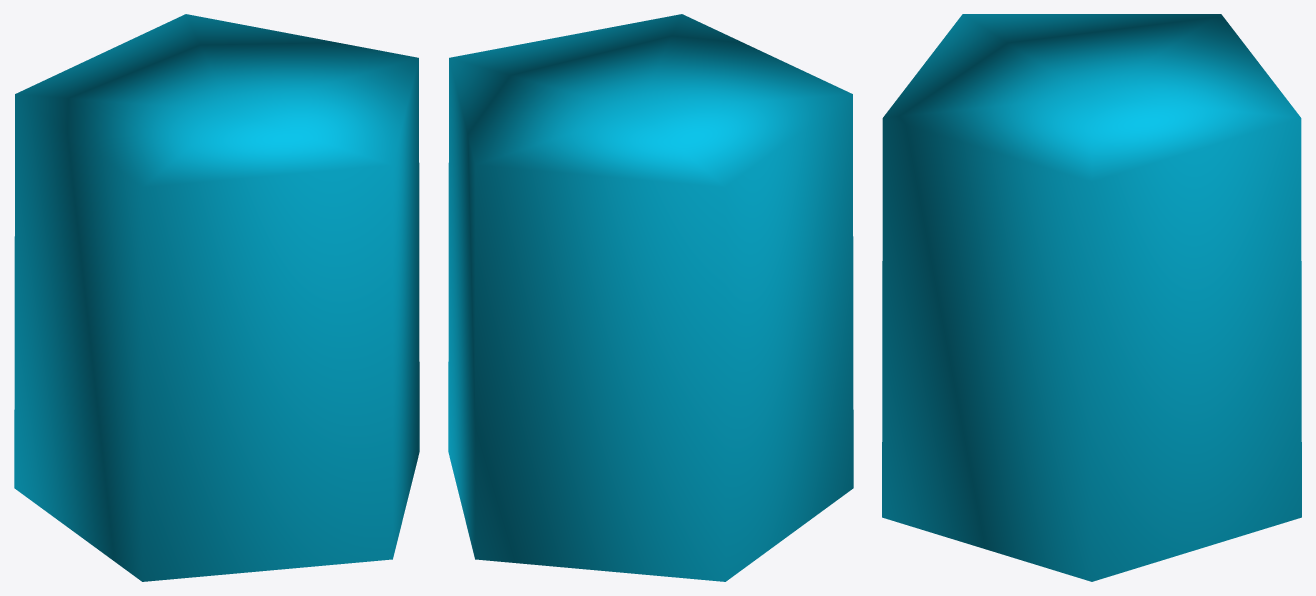
The model's file is Canned_Food_01_Lod2.fbx.
3 views of the same model, side by side, from view 1: azimuth 30°, elevation 25°; view 2: azimuth 150°, elevation 25°; view 3: azimuth 270°, elevation 25° (orthographic).
Visible parts, largest first — view 1: Canned_Food_01_Lod2; view 2: Canned_Food_01_Lod2; view 3: Canned_Food_01_Lod2.
Boxes of the visible parts, x1,y1,x2,y2 form: Canned_Food_01_Lod2: (14, 14, 419, 581); Canned_Food_01_Lod2: (448, 14, 853, 581); Canned_Food_01_Lod2: (882, 14, 1301, 581).
Bounding box in the file's own units: 10.51 × 11.6 × 11.05.
